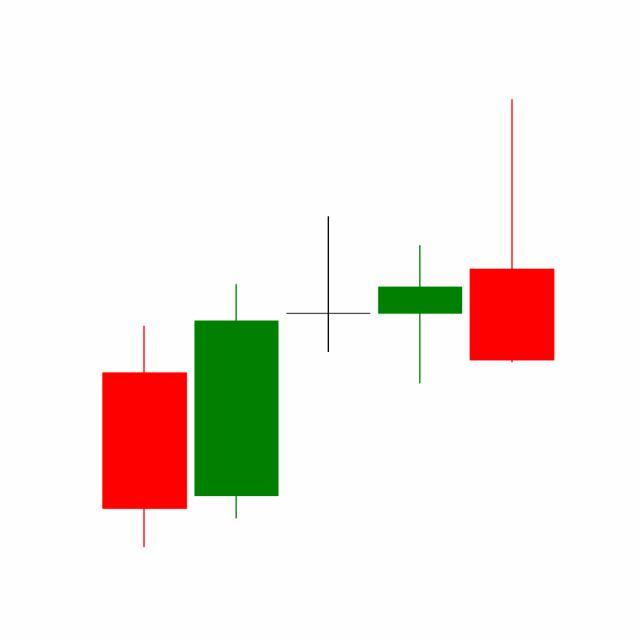Up-Down Gap Side-by-side White Lines: (190, 214, 467, 524)
